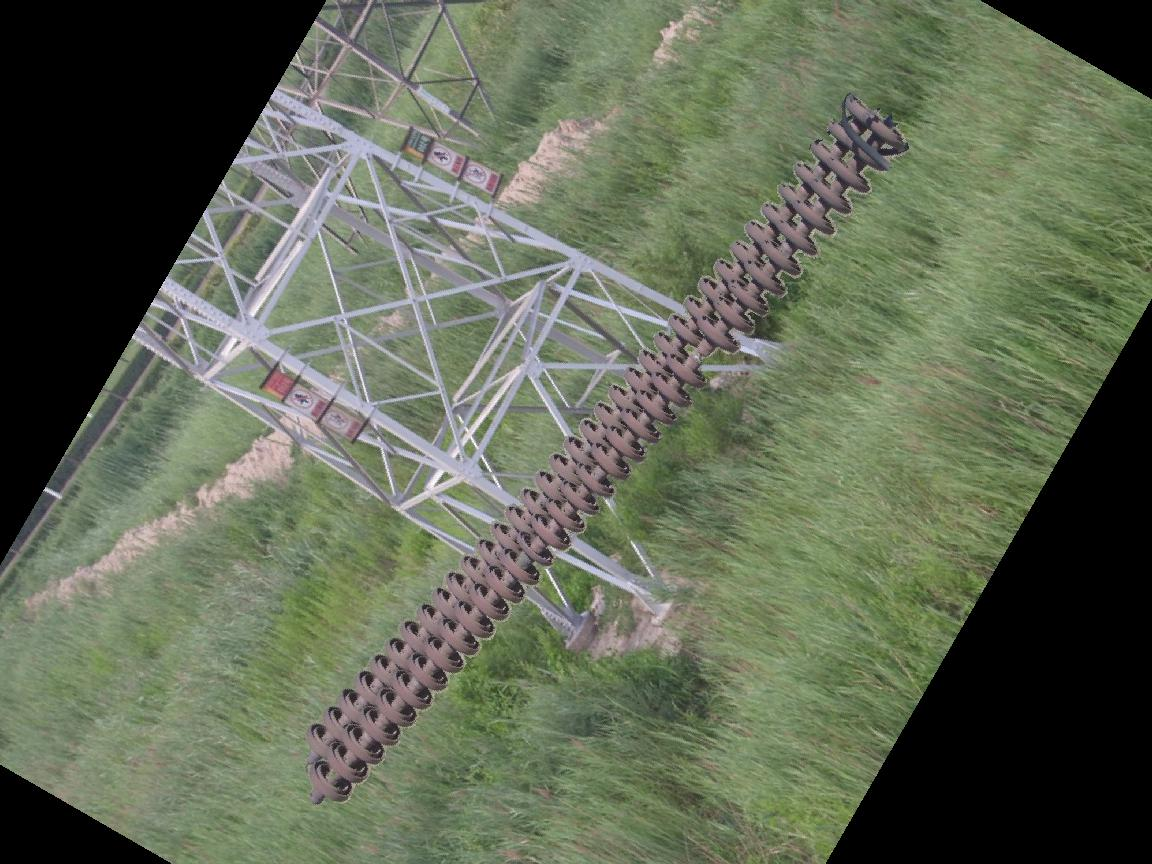insulator: (298, 89, 909, 809)
insulator_stringdrop: (662, 313, 742, 392)
